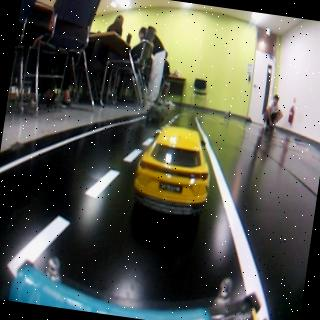car: (128, 124, 214, 206), (146, 105, 166, 123)
